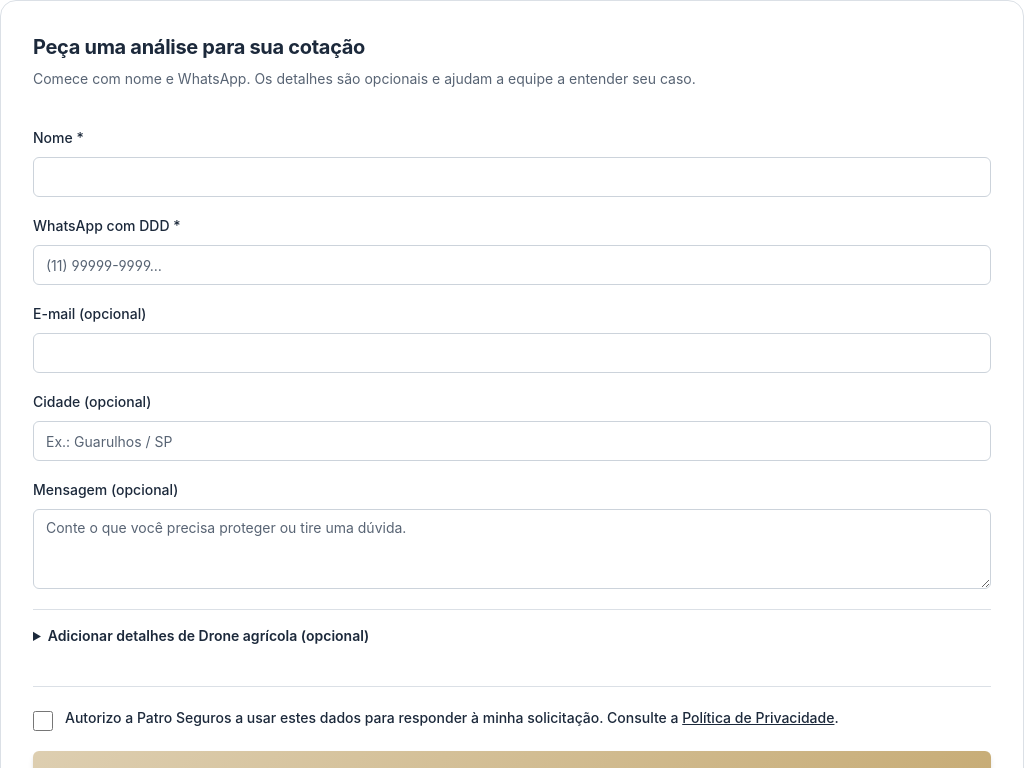
Test case: Captação por produto › mantém os dados e oferece WhatsApp quando o envio não é confirmado
The image size is (1024, 768).
Type "Maria Teste" into the field labelled "Nome *" at (512, 177), box [33, 157, 991, 197]
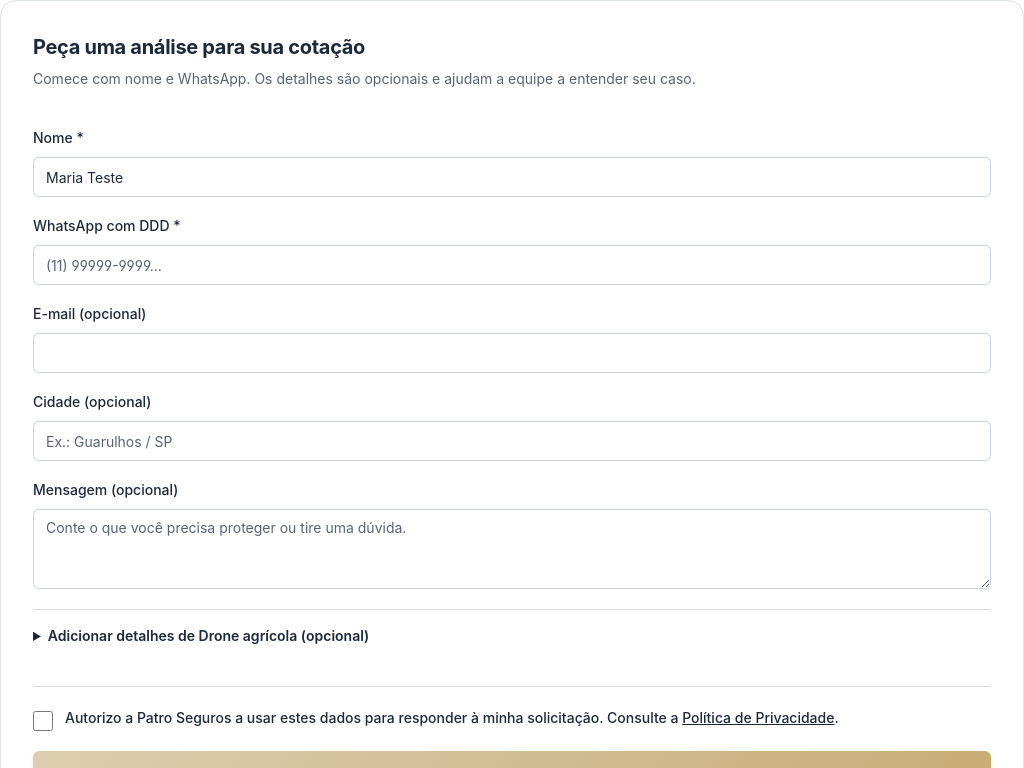
Type "11999999999" into the field labelled "WhatsApp com DDD *" at (512, 265), box [33, 245, 991, 285]
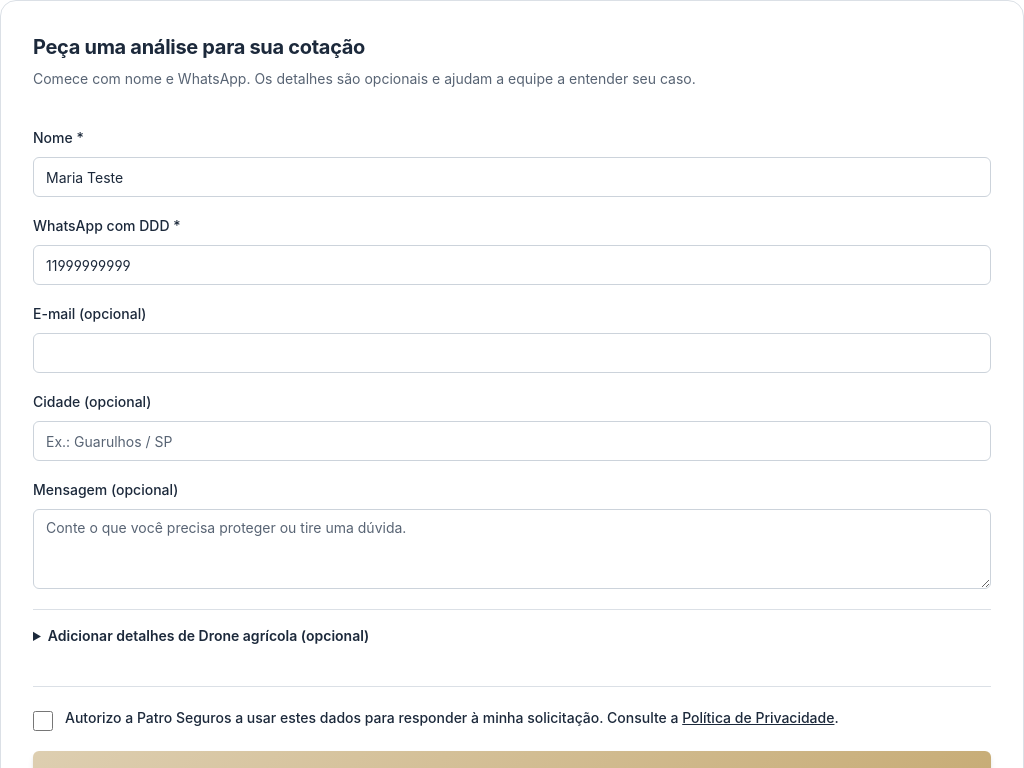
Click the checkbox at (43, 721), box [33, 711, 53, 731]
(page scrolled)
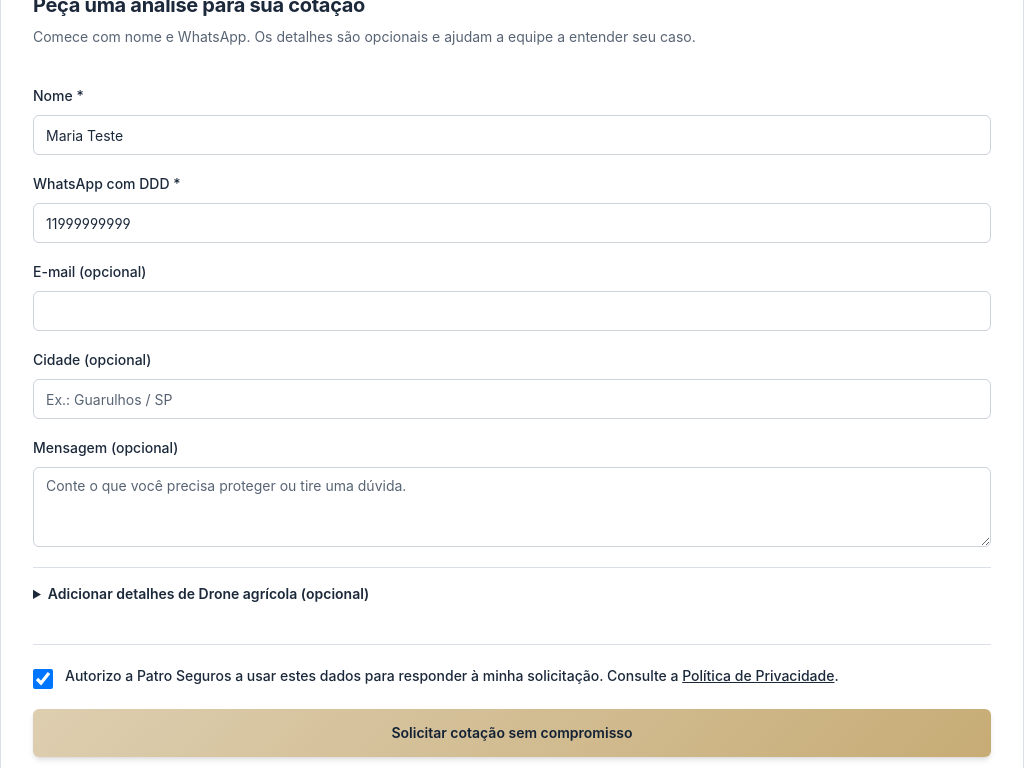
Submit the form
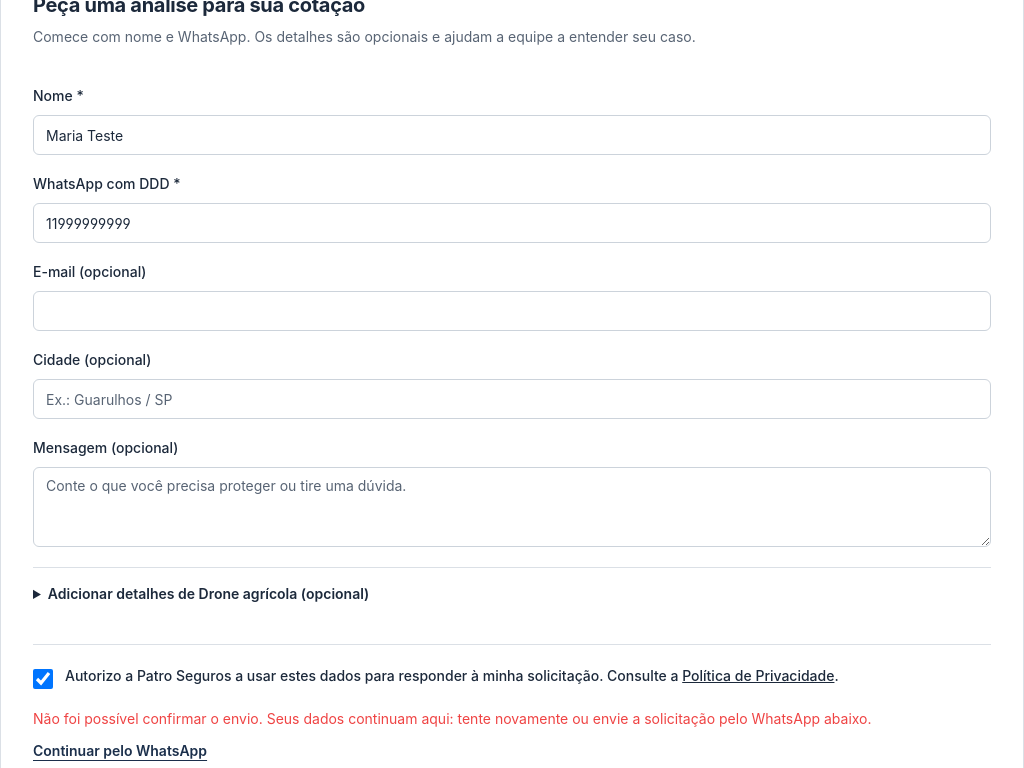
Expected: the message shows "Não foi possível confirmar", [33, 710, 872, 727]
